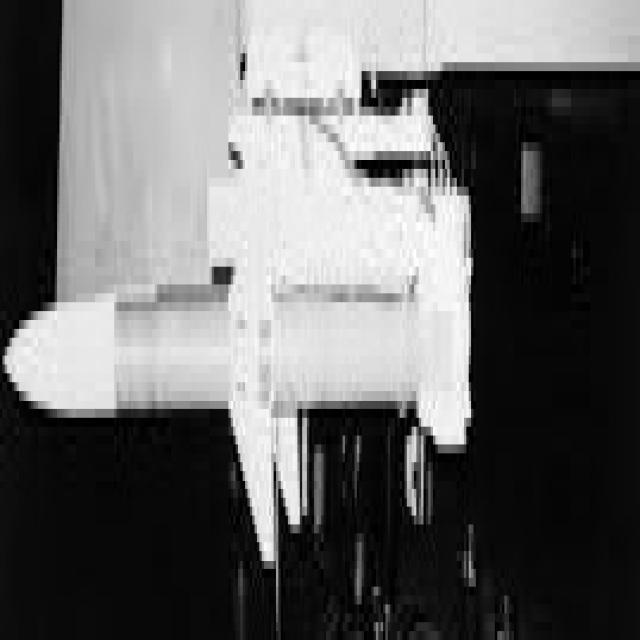missile: (15, 244, 469, 477)
